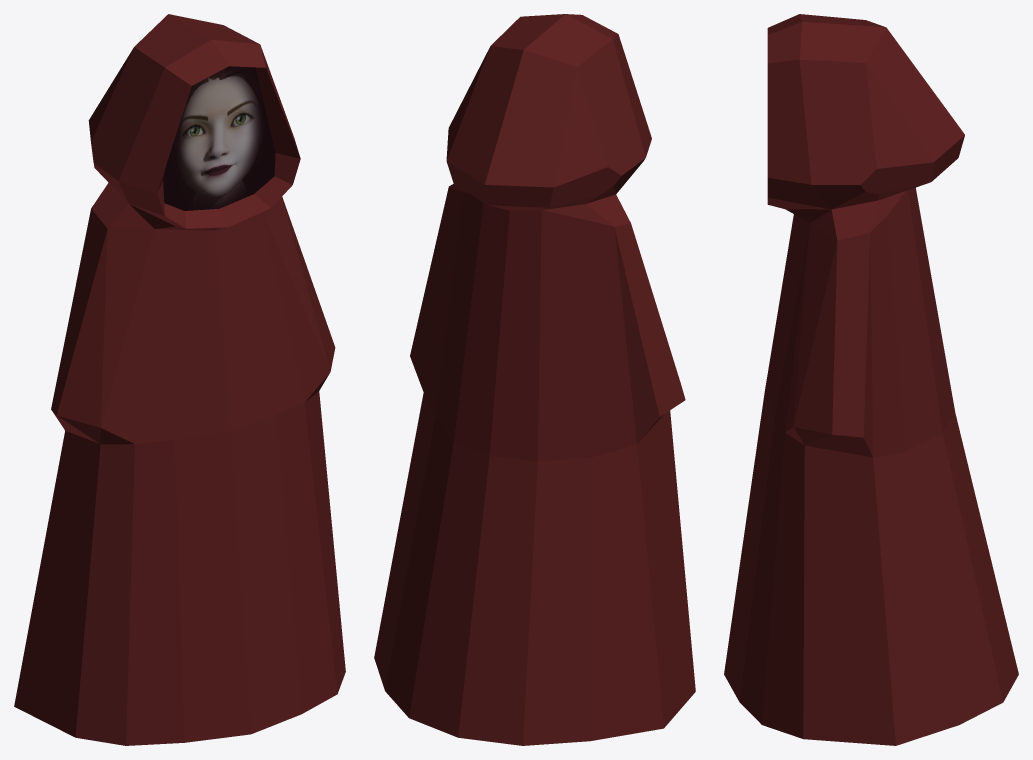
The model's file is avatar_capuchon.glb.
3 renders of one model, left to right at view 1: azimuth 30°, elevation 25°; view 2: azimuth 150°, elevation 25°; view 3: azimuth 270°, elevation 25°, orthographic. The views are drawn at different scales.
Parts seen in each view (by area): view 1: Capuchon; view 2: Capuchon; view 3: Capuchon.
Boxes of the visible parts, x1,y1,x2,y2 form: Capuchon: (14,14,345,745); Capuchon: (374,14,695,745); Capuchon: (724,14,1018,745).
Bounding box in the file's own units: 0.7918 × 1.69 × 0.6902.
2 materials, 2 textured.
